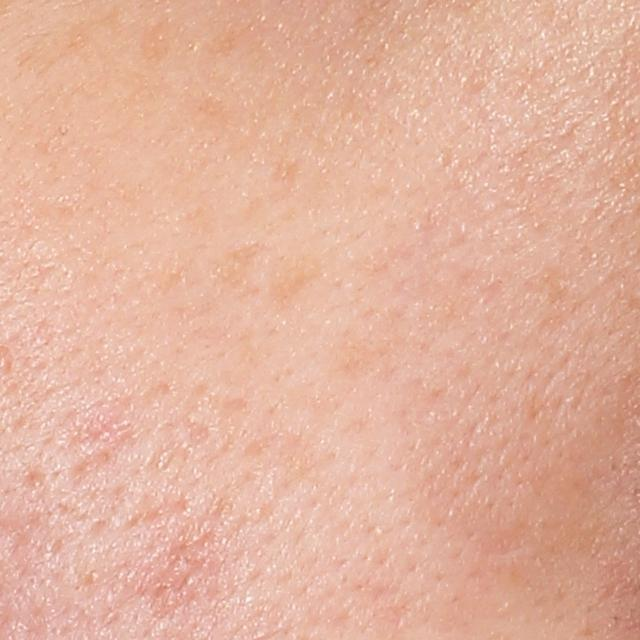atrophic_scar: (20, 468, 47, 492)
melasma: (138, 12, 191, 69)
